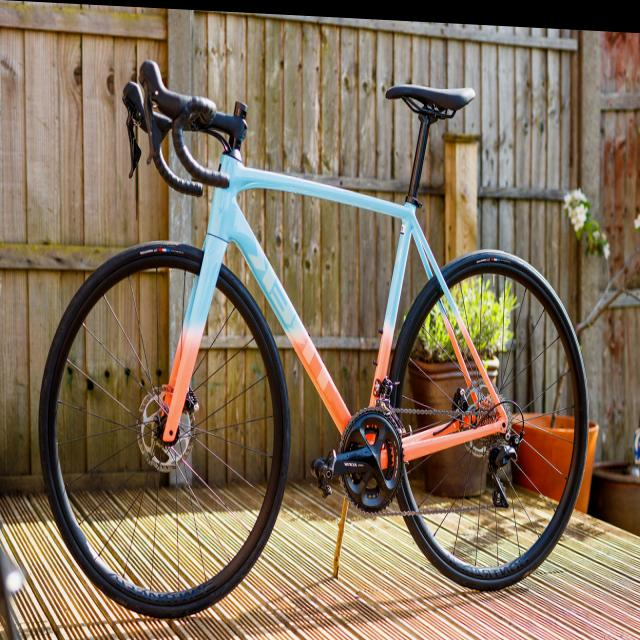road-bike: (41, 55, 596, 633)
